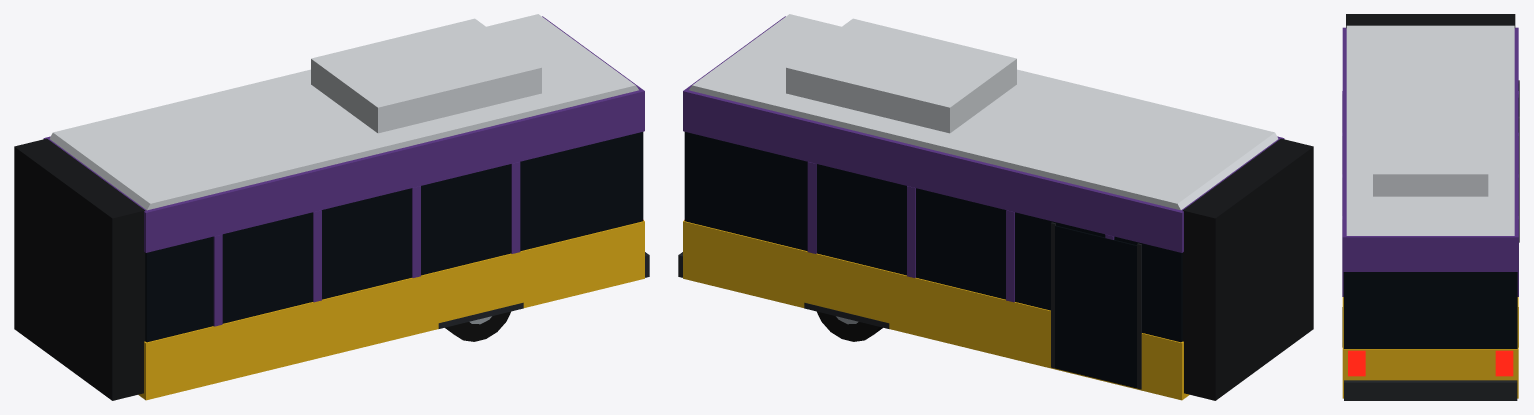
File: trolley60r.glb
3 views of the same model, side by side, from view 1: azimuth 30°, elevation 25°; view 2: azimuth 150°, elevation 25°; view 3: azimuth 270°, elevation 25° (orthographic). The views are drawn at different scales.
Visible parts, largest first — view 1: bus60-rear; view 2: bus60-rear; view 3: bus60-rear.
Part boxes in pixels (x1,y1,x2,y2): bus60-rear: [14, 14, 649, 400]; bus60-rear: [678, 14, 1313, 400]; bus60-rear: [1342, 14, 1519, 400].
Bounding box in the file's own units: 7.84 × 3.37 × 2.61.
